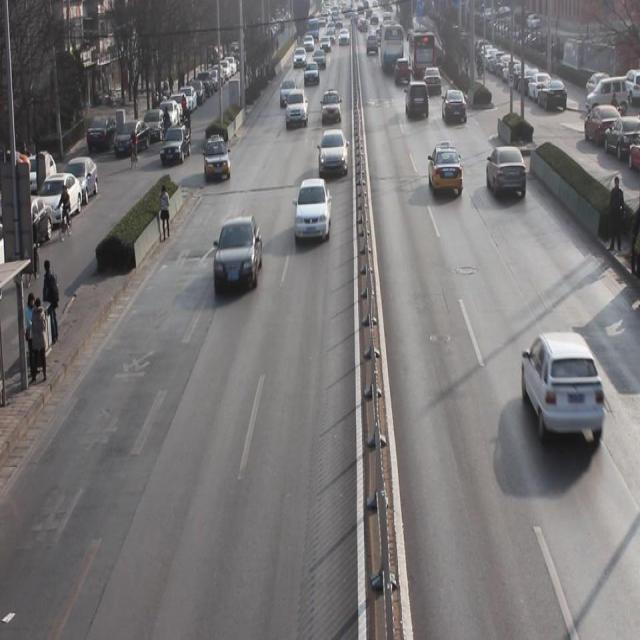car: (519, 333, 606, 448), (213, 220, 265, 296), (294, 178, 333, 246), (485, 147, 528, 205), (428, 143, 464, 203), (318, 134, 348, 178), (203, 139, 231, 186), (406, 80, 430, 121), (285, 90, 309, 130), (442, 91, 467, 127), (321, 90, 342, 125), (278, 77, 297, 109), (424, 66, 442, 99), (394, 58, 410, 88), (304, 64, 320, 88)
